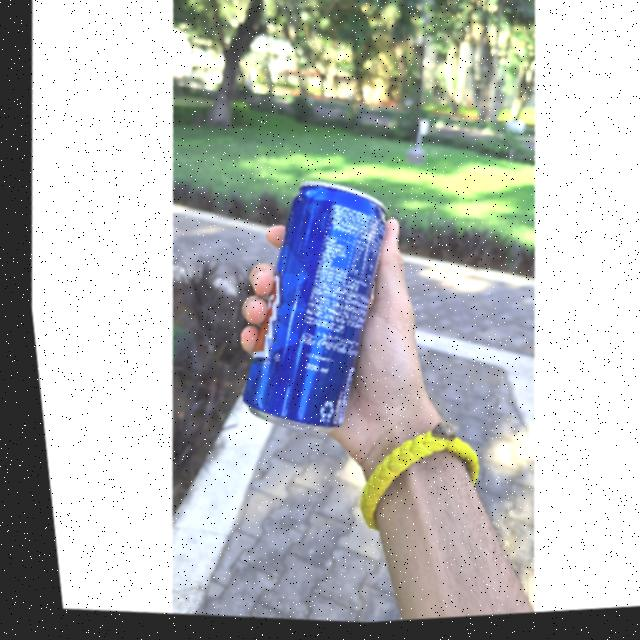Thums Up: (211, 172, 405, 452)
